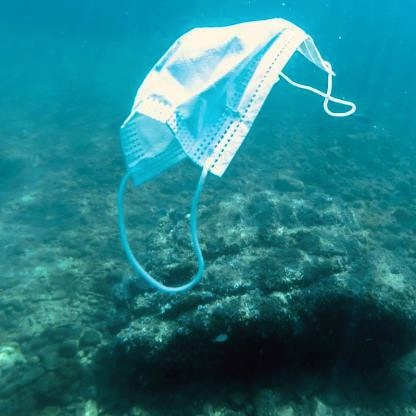Mask: (108, 17, 351, 298)
